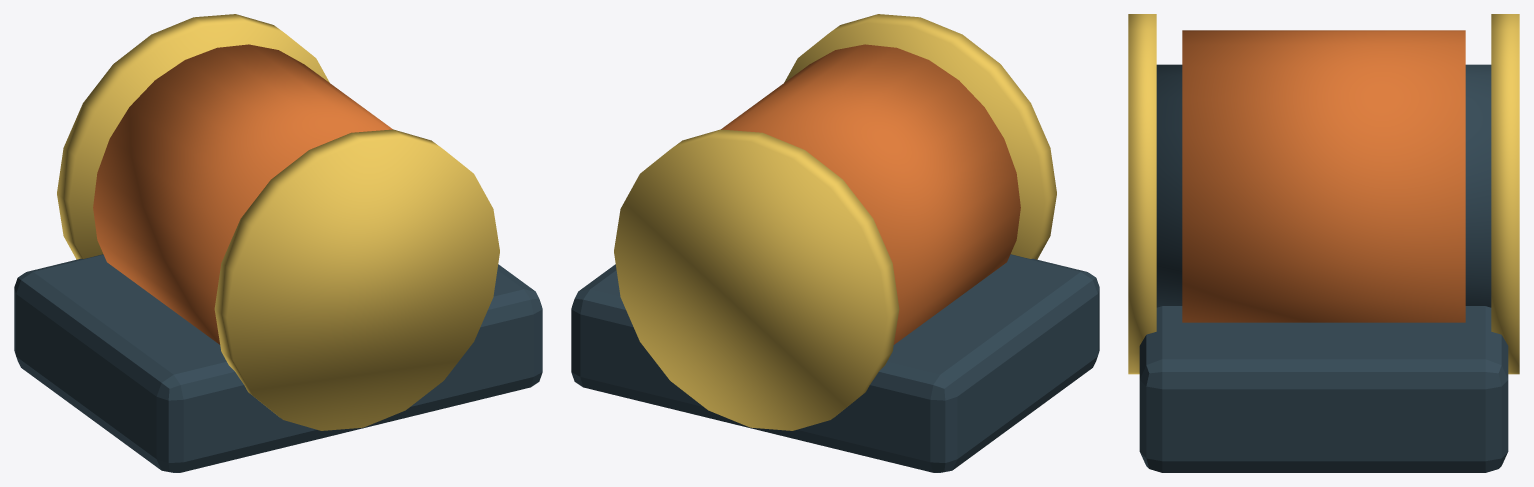
Rendered from lift-gear.glb.
The picture shows the model from 3 angles, left to right: view 1: azimuth 30°, elevation 25°; view 2: azimuth 150°, elevation 25°; view 3: azimuth 270°, elevation 25°; orthographic projection. The views are drawn at different scales.
Visible parts, largest first — view 1: tyaga-lift-gear-surface, lift-drum-surface; view 2: tyaga-lift-gear-surface, lift-drum-surface; view 3: tyaga-lift-gear-surface, lift-drum-surface.
Part boxes in pixels (bbox=[...]): tyaga-lift-gear-surface: bbox=[14, 44, 542, 472]; lift-drum-surface: bbox=[57, 14, 499, 430]; tyaga-lift-gear-surface: bbox=[571, 44, 1099, 472]; lift-drum-surface: bbox=[614, 14, 1056, 430]; tyaga-lift-gear-surface: bbox=[1139, 30, 1508, 472]; lift-drum-surface: bbox=[1128, 14, 1519, 374].
Size of the model in its own units: 0.9 by 0.67 by 0.69.
